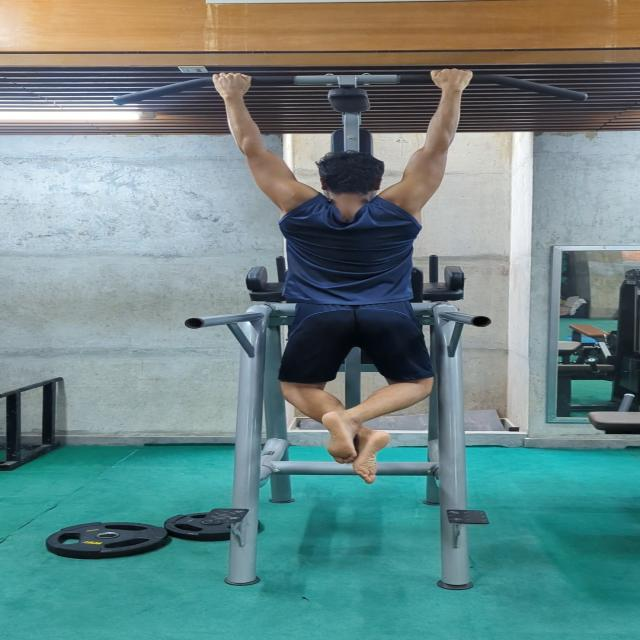Normal_PullUps: (199, 66, 497, 486)
